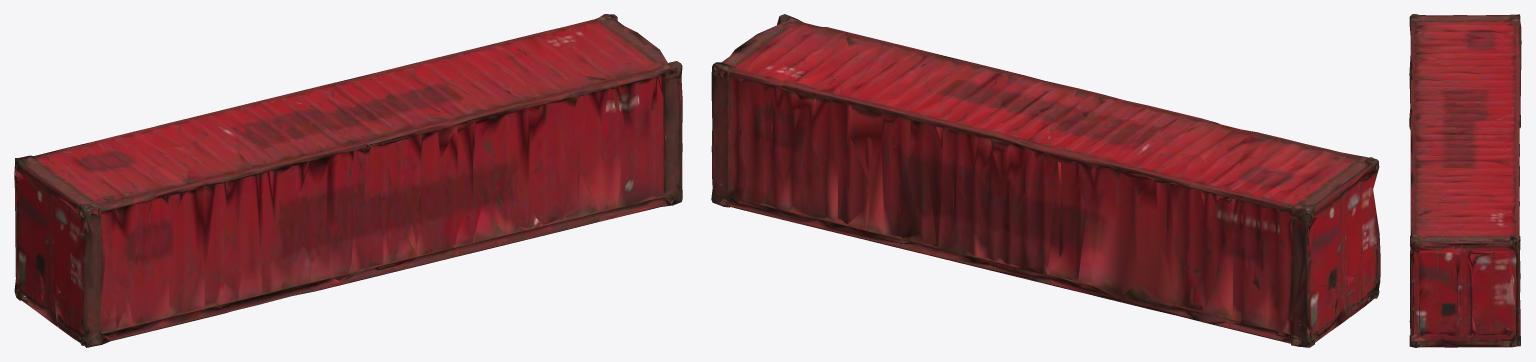
File: container_red.glb
3 views of the same model, side by side, from view 1: azimuth 30°, elevation 25°; view 2: azimuth 150°, elevation 25°; view 3: azimuth 270°, elevation 25° (orthographic). The views are drawn at different scales.
Bounding box in the file's own units: 1.9 × 0.4231 × 0.3964.
Materials: 1 (1 with a texture image).
